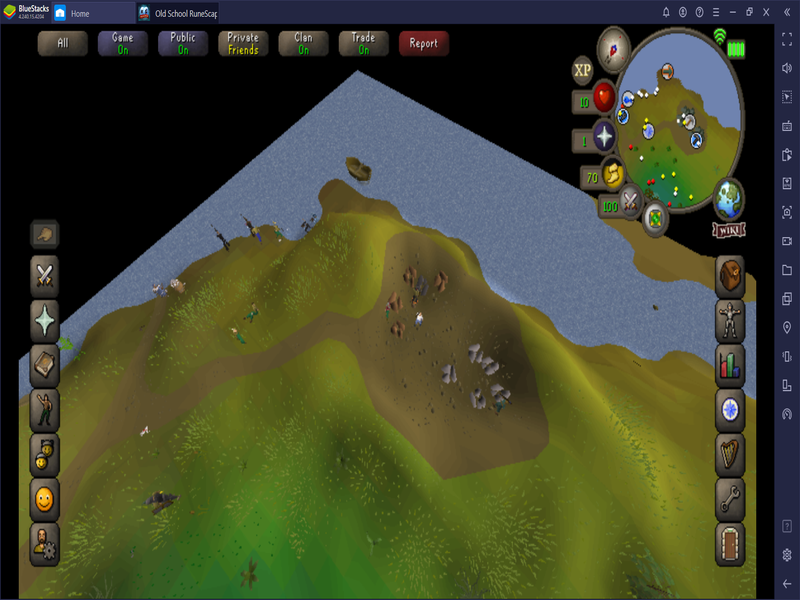copper_rock_1: (389, 318, 408, 337)
copper_rock_2: (387, 290, 404, 313)
